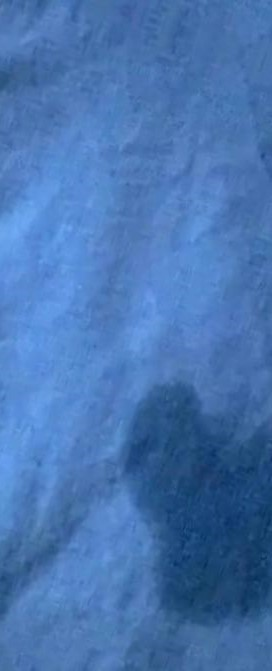stain: (117, 370, 272, 631)
